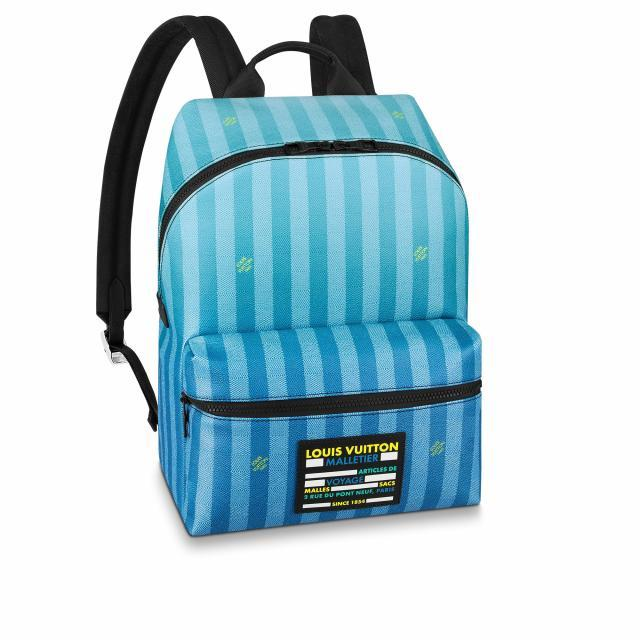Backpacks: (150, 91, 488, 538)
